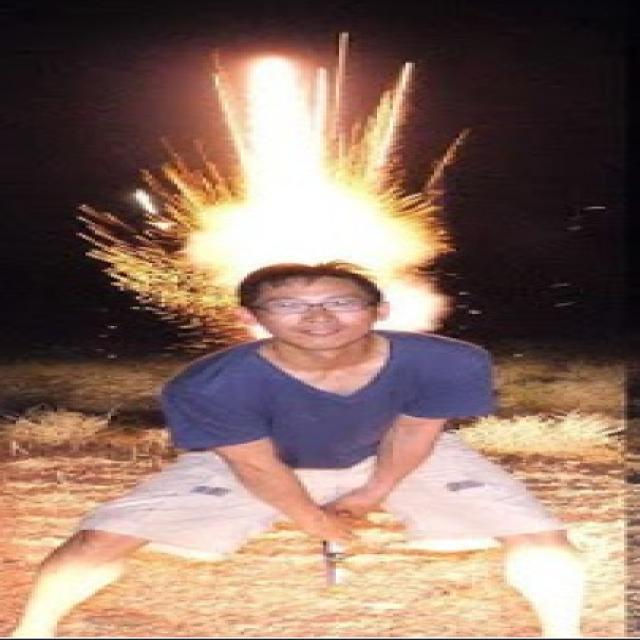fire: (78, 32, 470, 345)
